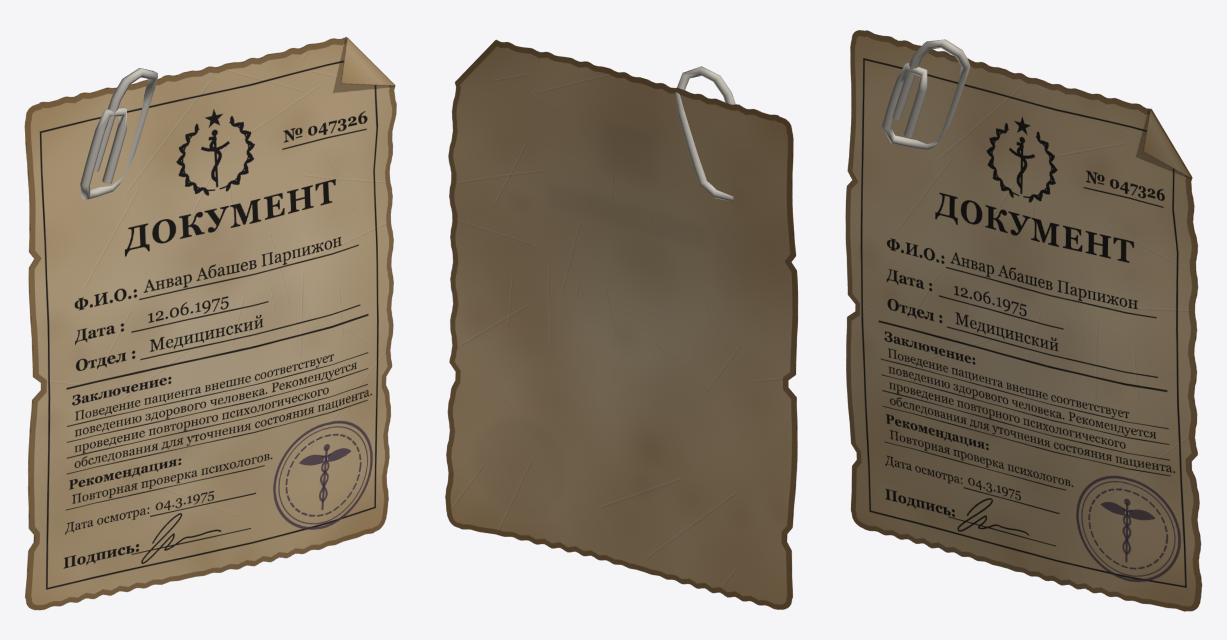
File: документ.glb
3 renders of one model, left to right at view 1: azimuth 30°, elevation 25°; view 2: azimuth 150°, elevation 25°; view 3: azimuth 330°, elevation 25°, orthographic. The views are drawn at different scales.
Parts seen in each view (by area): view 1: Paper_Front, Metal_Paperclip, Paper_Core_0.25, Paper_Core_0, Paper_Core_-0.25; view 2: Paper_Back, Metal_Paperclip, Paper_Core_-0.25, Paper_Core_0, Paper_Core_0.25; view 3: Paper_Front, Metal_Paperclip, Paper_Core_0.25, Paper_Core_0, Paper_Core_-0.25.
Boxes of the visible parts, x1,y1,x2,y2 form: Paper_Front: (25,38,396,610); Metal_Paperclip: (80,68,157,199); Paper_Core_0.25: (25,37,387,607); Paper_Core_0: (25,37,346,606); Paper_Core_-0.25: (24,37,345,605); Paper_Back: (445,40,796,609); Metal_Paperclip: (675,66,739,201); Paper_Core_-0.25: (461,40,797,606); Paper_Core_0: (496,40,797,606); Paper_Core_0.25: (496,39,798,603); Paper_Front: (845,31,1200,611); Metal_Paperclip: (881,39,970,150); Paper_Core_0.25: (848,30,1201,609); Paper_Core_0: (856,30,1201,606); Paper_Core_-0.25: (858,30,1202,606).
Bounding box in the file's own units: 2.1 × 2.85 × 0.1563.
Materials: 4 (3 with a texture image).
